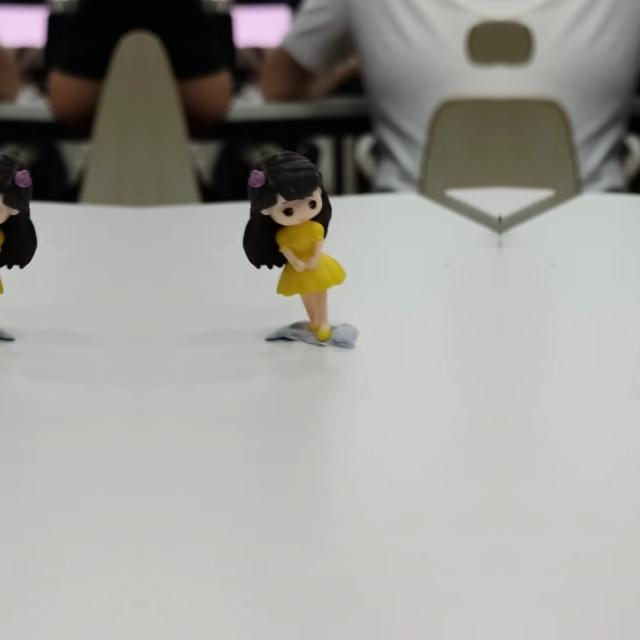woman head: (238, 155, 336, 233), (0, 155, 42, 233)
